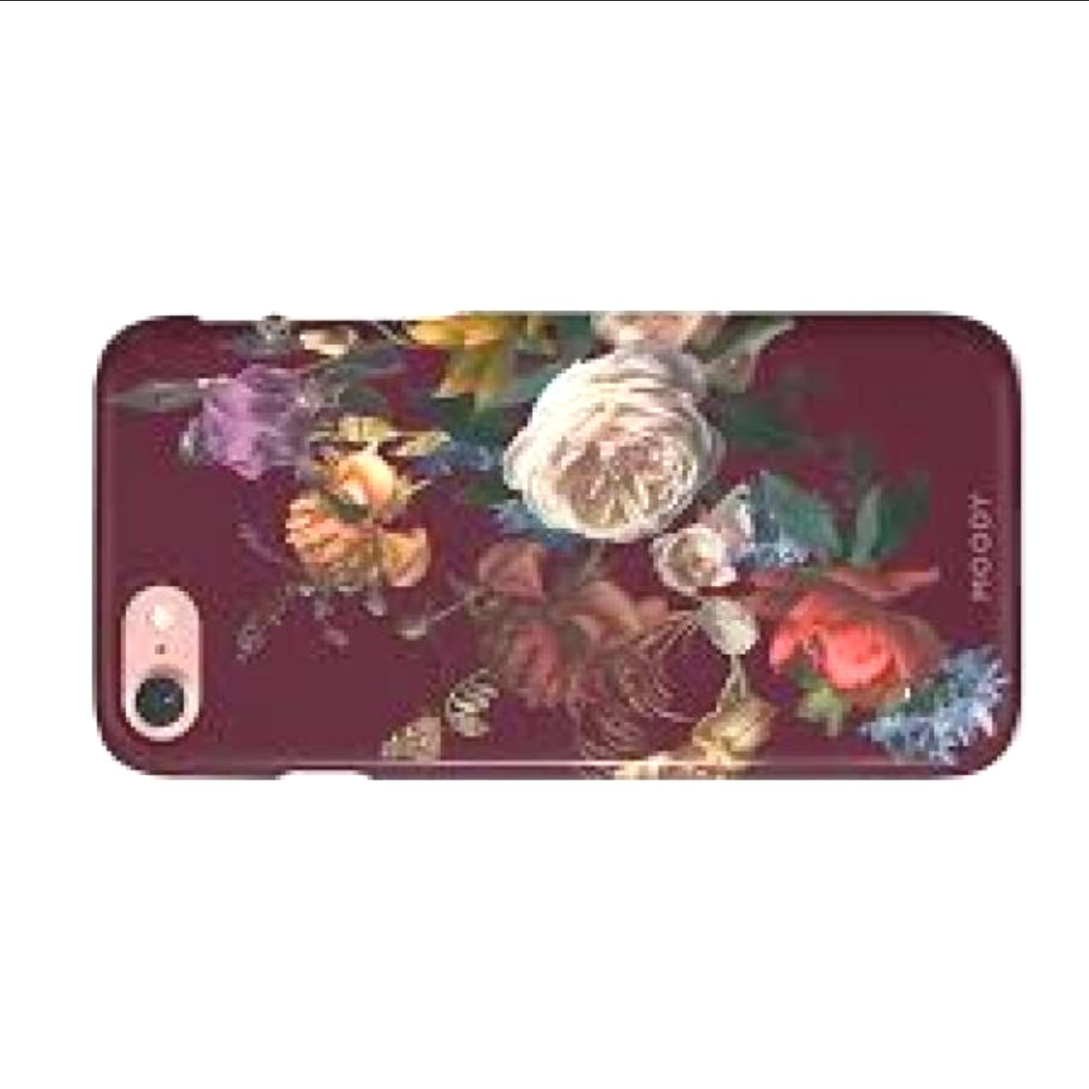phone: (93, 307, 1013, 777)
